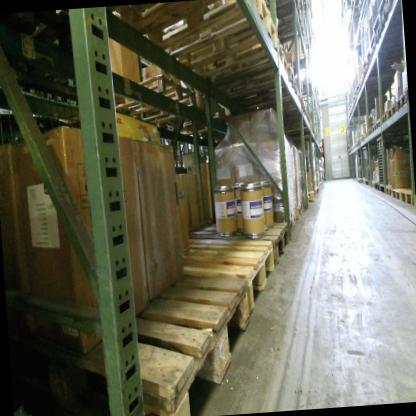pallet: (33, 262, 258, 416), (115, 0, 280, 76), (175, 209, 293, 280), (168, 235, 279, 309), (101, 64, 198, 138), (193, 39, 286, 97), (151, 81, 235, 145), (223, 55, 296, 98), (224, 79, 303, 112), (257, 94, 307, 122), (275, 0, 304, 39), (366, 37, 401, 62), (279, 111, 314, 135), (372, 20, 403, 47), (367, 53, 402, 74), (379, 5, 403, 31), (363, 63, 395, 78), (393, 88, 408, 113), (385, 184, 401, 202), (386, 100, 398, 121), (399, 188, 413, 204), (348, 11, 364, 25), (296, 59, 312, 72), (348, 22, 361, 37), (295, 201, 305, 219), (287, 214, 298, 230), (385, 0, 401, 9), (381, 112, 389, 127), (375, 117, 383, 132), (356, 0, 366, 11), (310, 187, 320, 197), (306, 191, 315, 201), (350, 0, 358, 11), (362, 131, 369, 143), (373, 179, 380, 191), (351, 87, 357, 101), (371, 123, 377, 135), (358, 134, 364, 146), (368, 125, 373, 138), (361, 76, 368, 85), (360, 85, 367, 94), (349, 101, 354, 110), (356, 138, 361, 146), (371, 181, 376, 189), (354, 96, 359, 104), (358, 88, 361, 99), (357, 177, 362, 182)
stillage: (374, 134, 409, 194), (362, 145, 378, 183), (362, 2, 371, 60), (357, 20, 366, 69), (367, 0, 375, 47), (370, 0, 381, 34), (354, 150, 364, 180), (377, 0, 390, 19)
